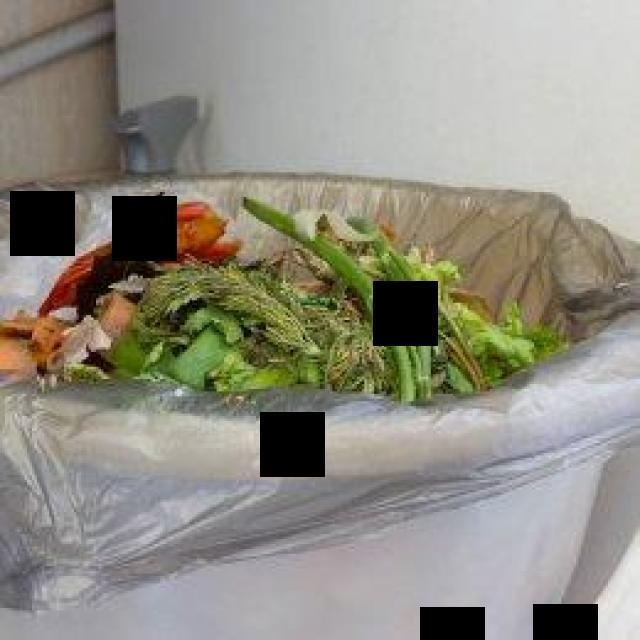Garbage: (0, 185, 585, 404)
